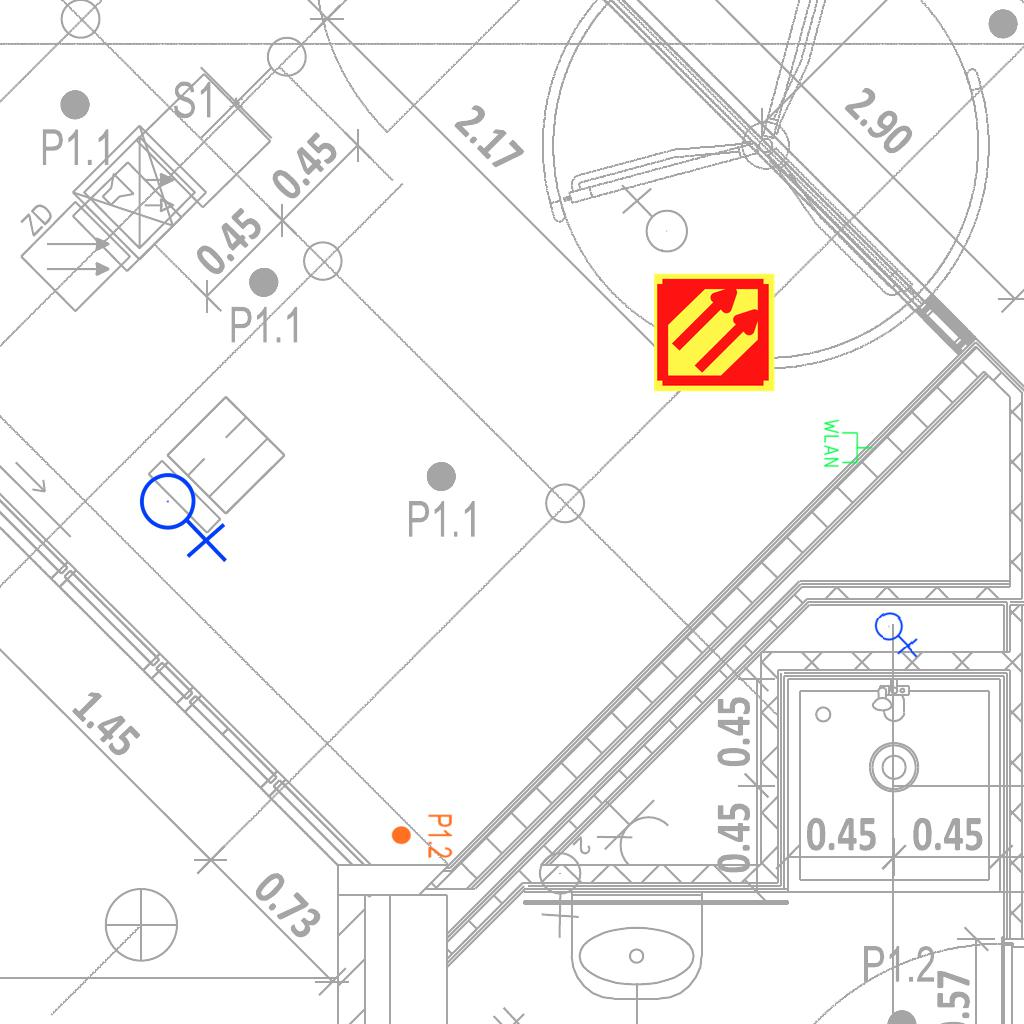ASR_Ansaugrauchmelder: (652, 270, 777, 395)
Downlight_LED_Einbauleuchten_Flur: (390, 813, 454, 859)
Elektroanschluss_allgemein_230V_Geraeteanschlussdose_230V: (138, 464, 232, 563), (873, 607, 922, 658)
WLAN: (822, 417, 874, 469)
